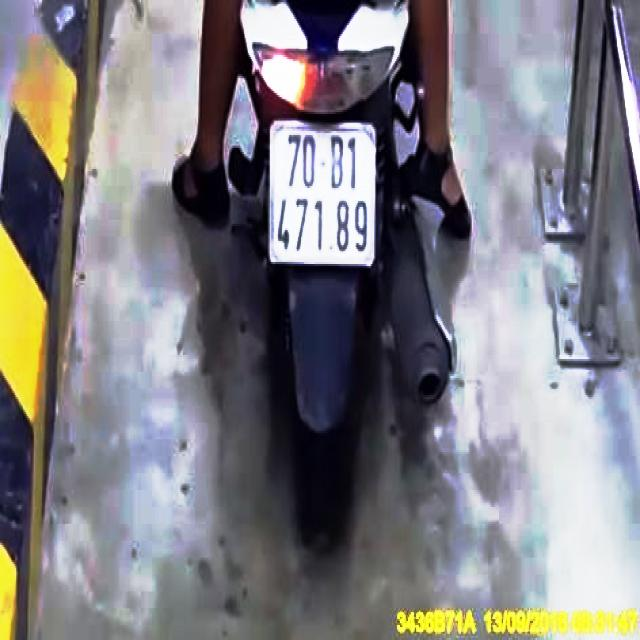license_plate: (270, 127, 377, 264)
